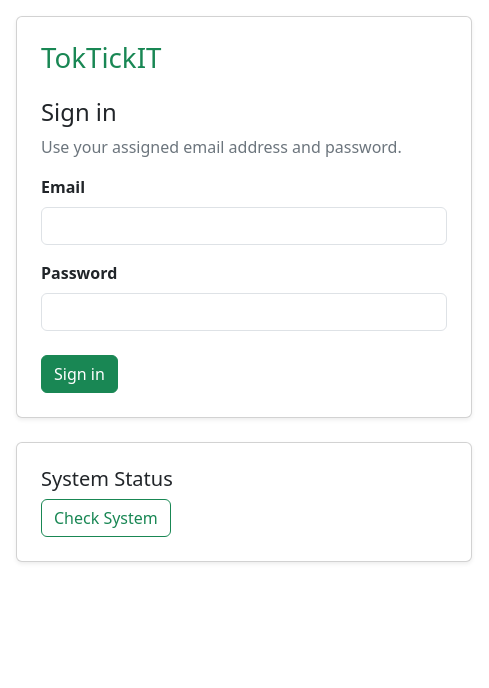
Test: App › shows an Offline error message when the API is unavailable
Click the button "Check System".
click(106, 518)  # box [41,499,171,537]
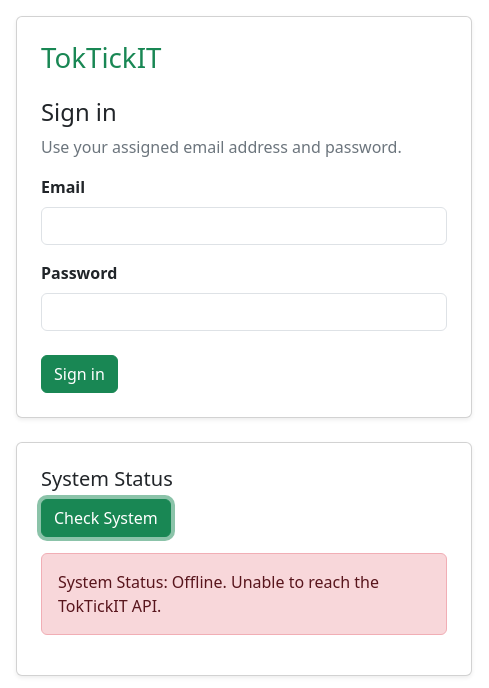
Expected: the message shows "System Status: Offline", [58,571,379,617]
Expected: the message shows "Unable to reach the TokTickIT API", [58,571,379,617]
